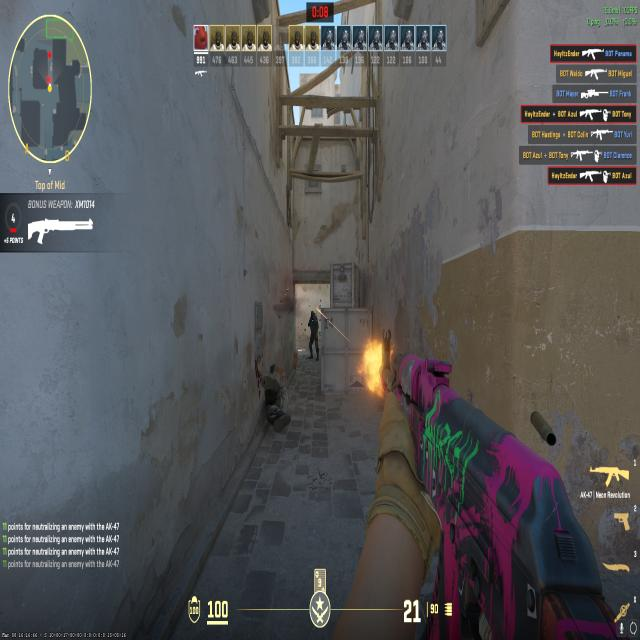ct: (306, 303, 321, 361)
